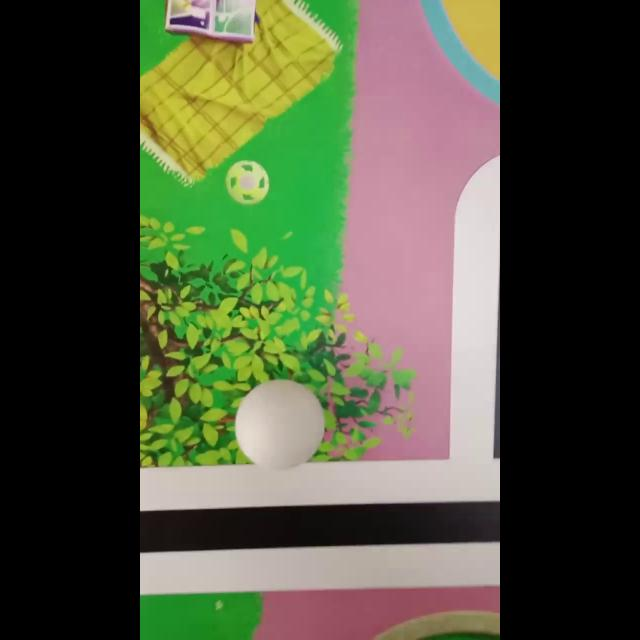white ball: (233, 378, 325, 470)
